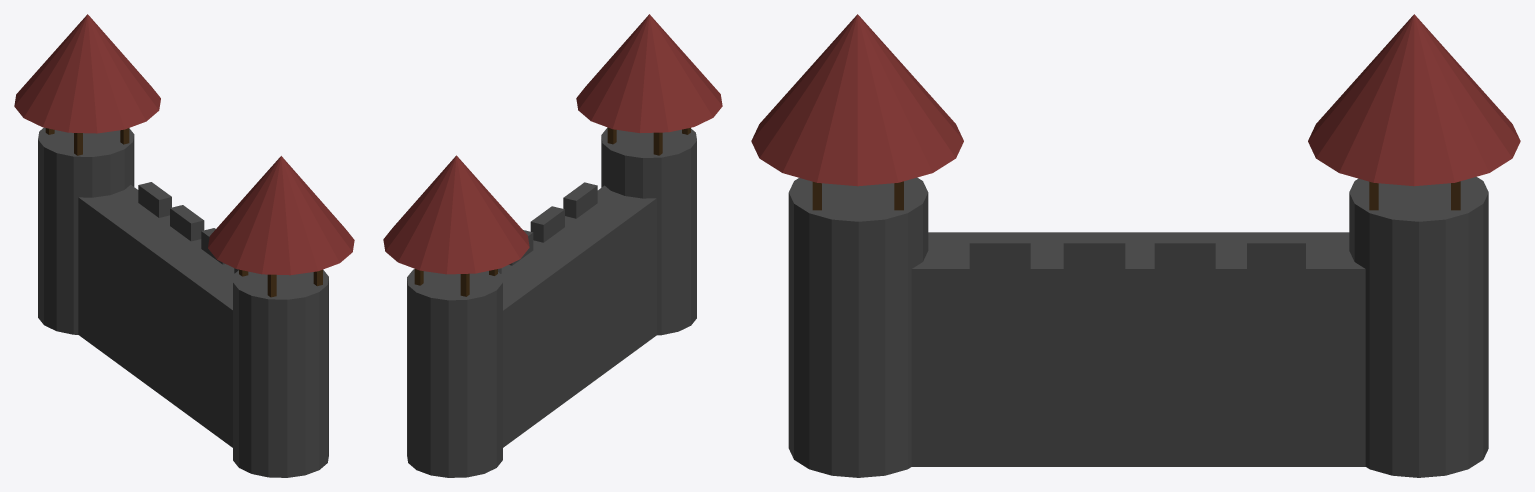
File: Tower_wall.fbx
3 renders of one model, left to right at view 1: azimuth 30°, elevation 25°; view 2: azimuth 150°, elevation 25°; view 3: azimuth 270°, elevation 25°, orthographic. The views are drawn at different scales.
Visible parts, largest first — view 1: Cube, Cylinder, Cylinder.001, Cone.001, Cone; view 2: Cube, Cylinder.001, Cylinder, Cone.001, Cone; view 3: Cube, Cylinder, Cylinder.001, Cone, Cone.001.
Part boxes in pixels (x1,y1,x2,y2): Cube: (78, 182, 238, 447); Cylinder: (233, 269, 328, 477); Cylinder.001: (38, 127, 134, 334); Cone.001: (14, 14, 160, 133); Cone: (208, 156, 354, 275); Cube: (498, 182, 656, 447); Cylinder.001: (407, 269, 502, 477); Cylinder: (601, 127, 696, 335); Cone.001: (383, 155, 529, 274); Cone: (576, 14, 722, 132); Cube: (911, 232, 1365, 466); Cylinder: (788, 177, 928, 477); Cylinder.001: (1349, 177, 1488, 477); Cone: (751, 14, 963, 186); Cone.001: (1308, 14, 1520, 186).
Bounding box in the file's own units: 305 × 687 × 1103.
